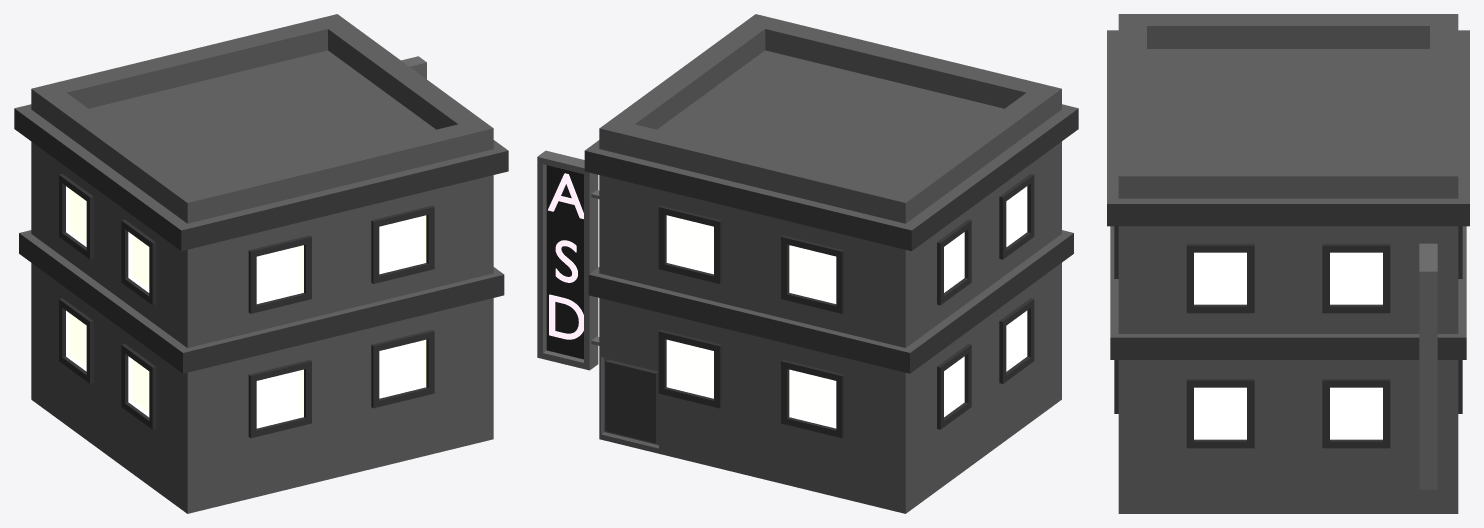
File: house2.fbx
3 views of the same model, side by side, from view 1: azimuth 30°, elevation 25°; view 2: azimuth 150°, elevation 25°; view 3: azimuth 270°, elevation 25° (orthographic). The views are drawn at different scales.
Visible parts, largest first — view 1: Text.003; view 2: Text.003; view 3: Text.003.
Boxes of the visible parts, <box> form: Text.003: <box>14,14,508,513</box>; Text.003: <box>537,14,1078,513</box>; Text.003: <box>1107,14,1469,513</box>.
Size of the model in its own units: 570 by 435 by 423.
